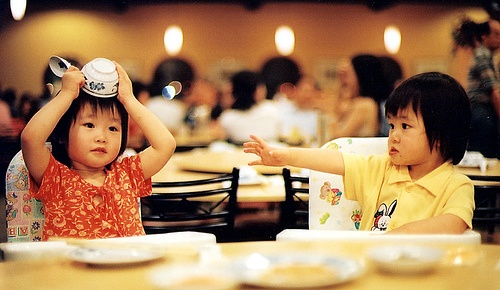head: (48, 79, 138, 174), (384, 71, 473, 166), (256, 56, 305, 103), (150, 62, 194, 106), (222, 70, 262, 115), (337, 54, 375, 99)
person: (242, 70, 479, 243), (9, 58, 175, 239), (137, 57, 216, 140), (322, 53, 383, 139), (465, 18, 497, 156)
